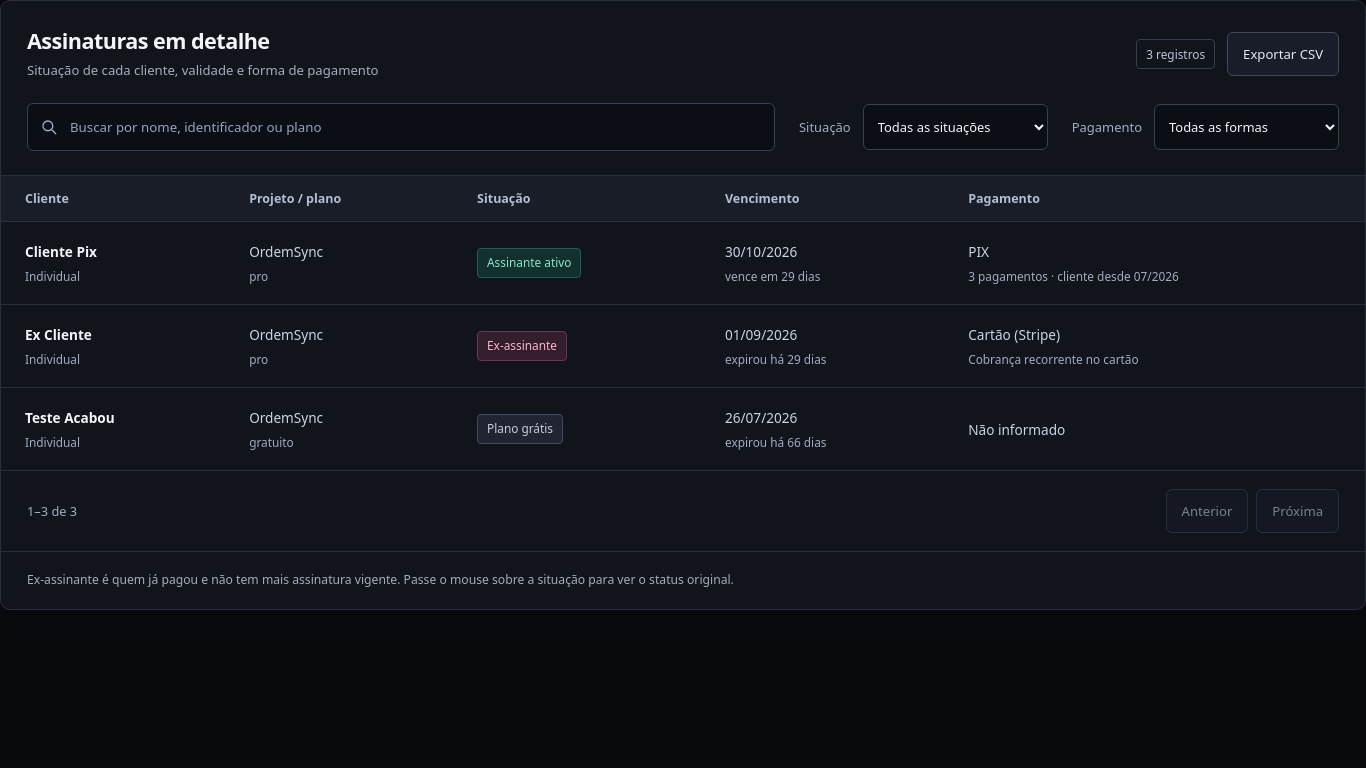
Test: SubscriptionTable › filters by relationship and by payment method
This screenshot has width=1366, height=768.
Select "Ex-assinante" in the dropdown labelled "Situação" at (955, 127), box top-left (863, 104), bottom-right (1048, 150)
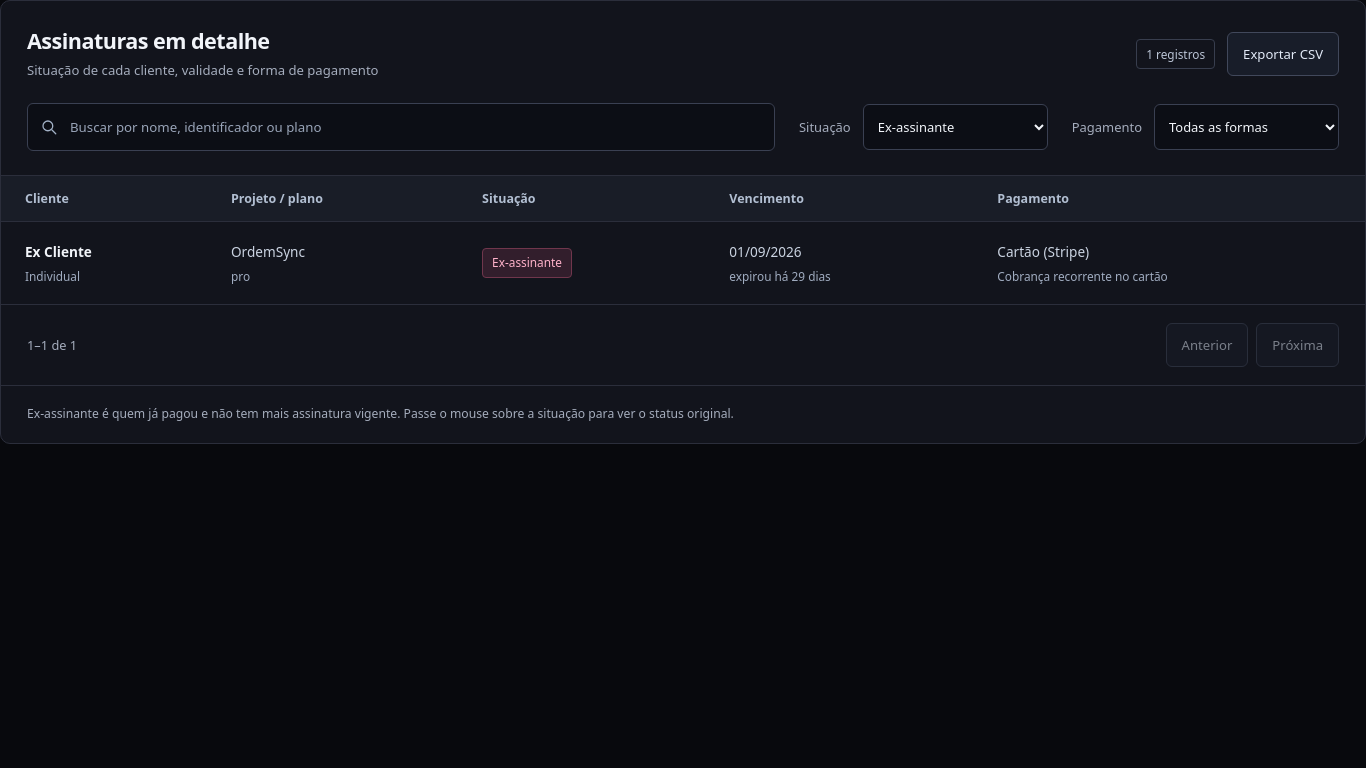
Check: the text "Ex Cliente" is shown, box top-left (25, 242), bottom-right (92, 261)
Check: the text "Cliente Pix" is gone
Select "Todas as situações" in the dropdown labelled "Situação" at (955, 127), box top-left (863, 104), bottom-right (1048, 150)
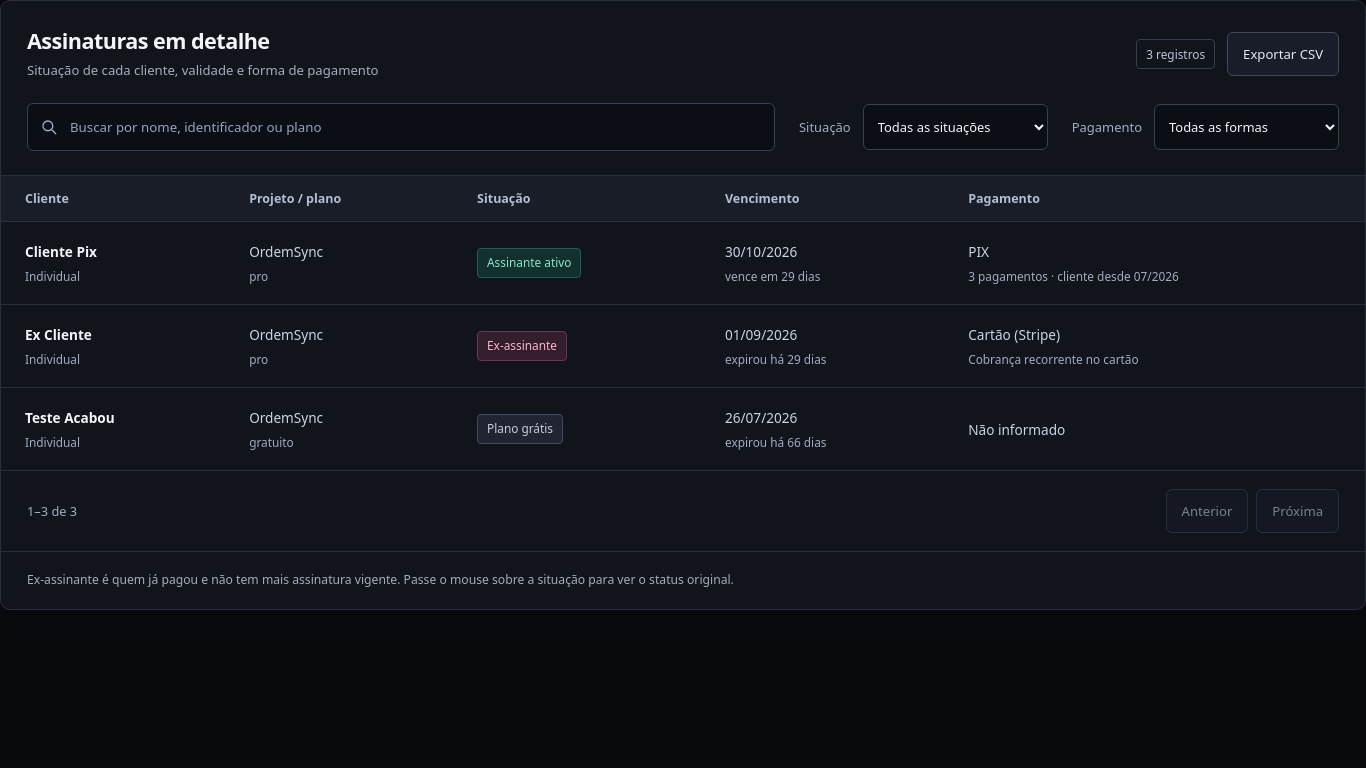
Select "PIX" in the dropdown labelled "Pagamento" at (1246, 127), box top-left (1154, 104), bottom-right (1339, 150)
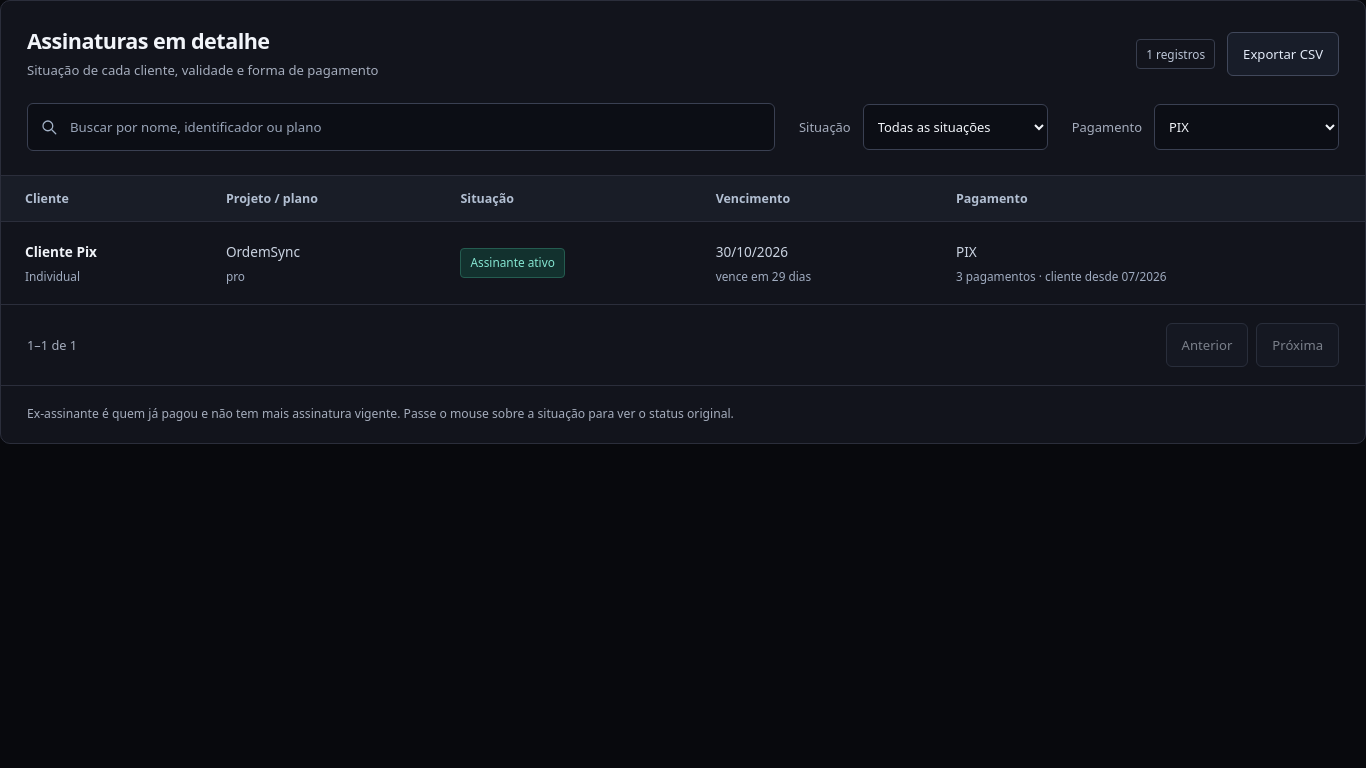
Check: the text "Cliente Pix" is shown, box top-left (25, 242), bottom-right (97, 261)
Check: the text "Ex Cliente" is gone
